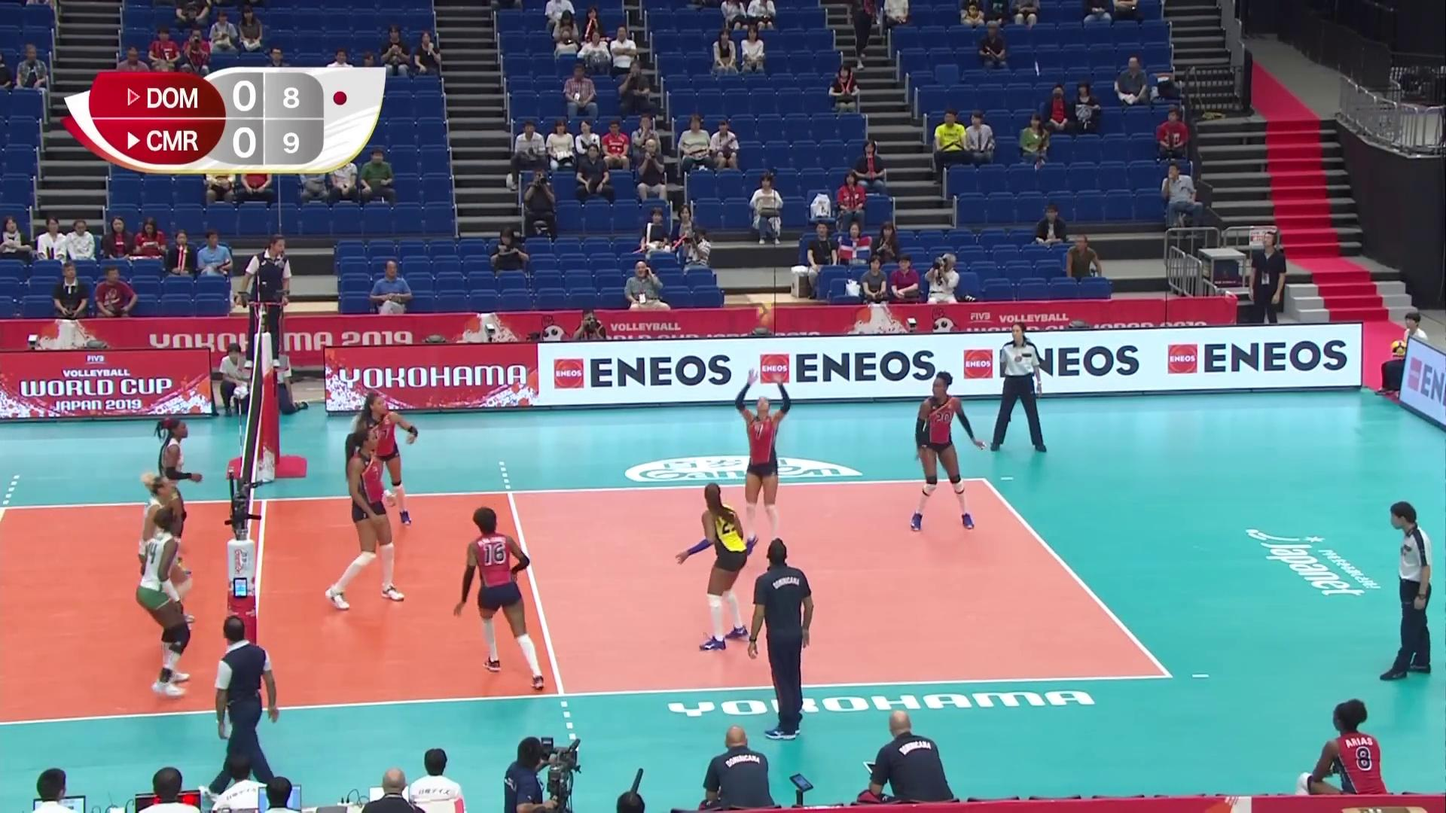player: (455, 509, 545, 678), (326, 438, 412, 612), (673, 486, 761, 651), (136, 507, 203, 695), (908, 373, 977, 539), (136, 477, 198, 638), (343, 396, 416, 531), (736, 383, 786, 547), (152, 417, 194, 578)
refree: (210, 619, 282, 802), (1385, 506, 1442, 685), (990, 316, 1049, 454), (239, 233, 289, 370)
